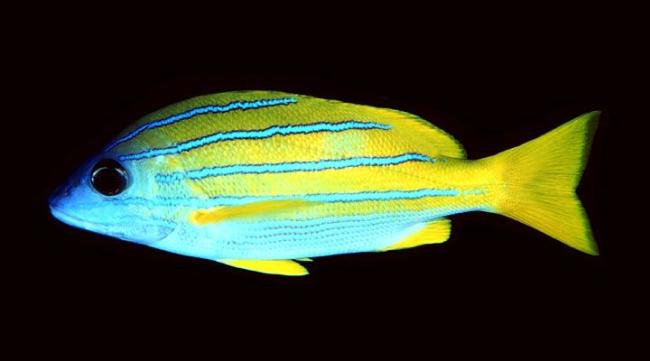fish: (50, 90, 601, 276)
